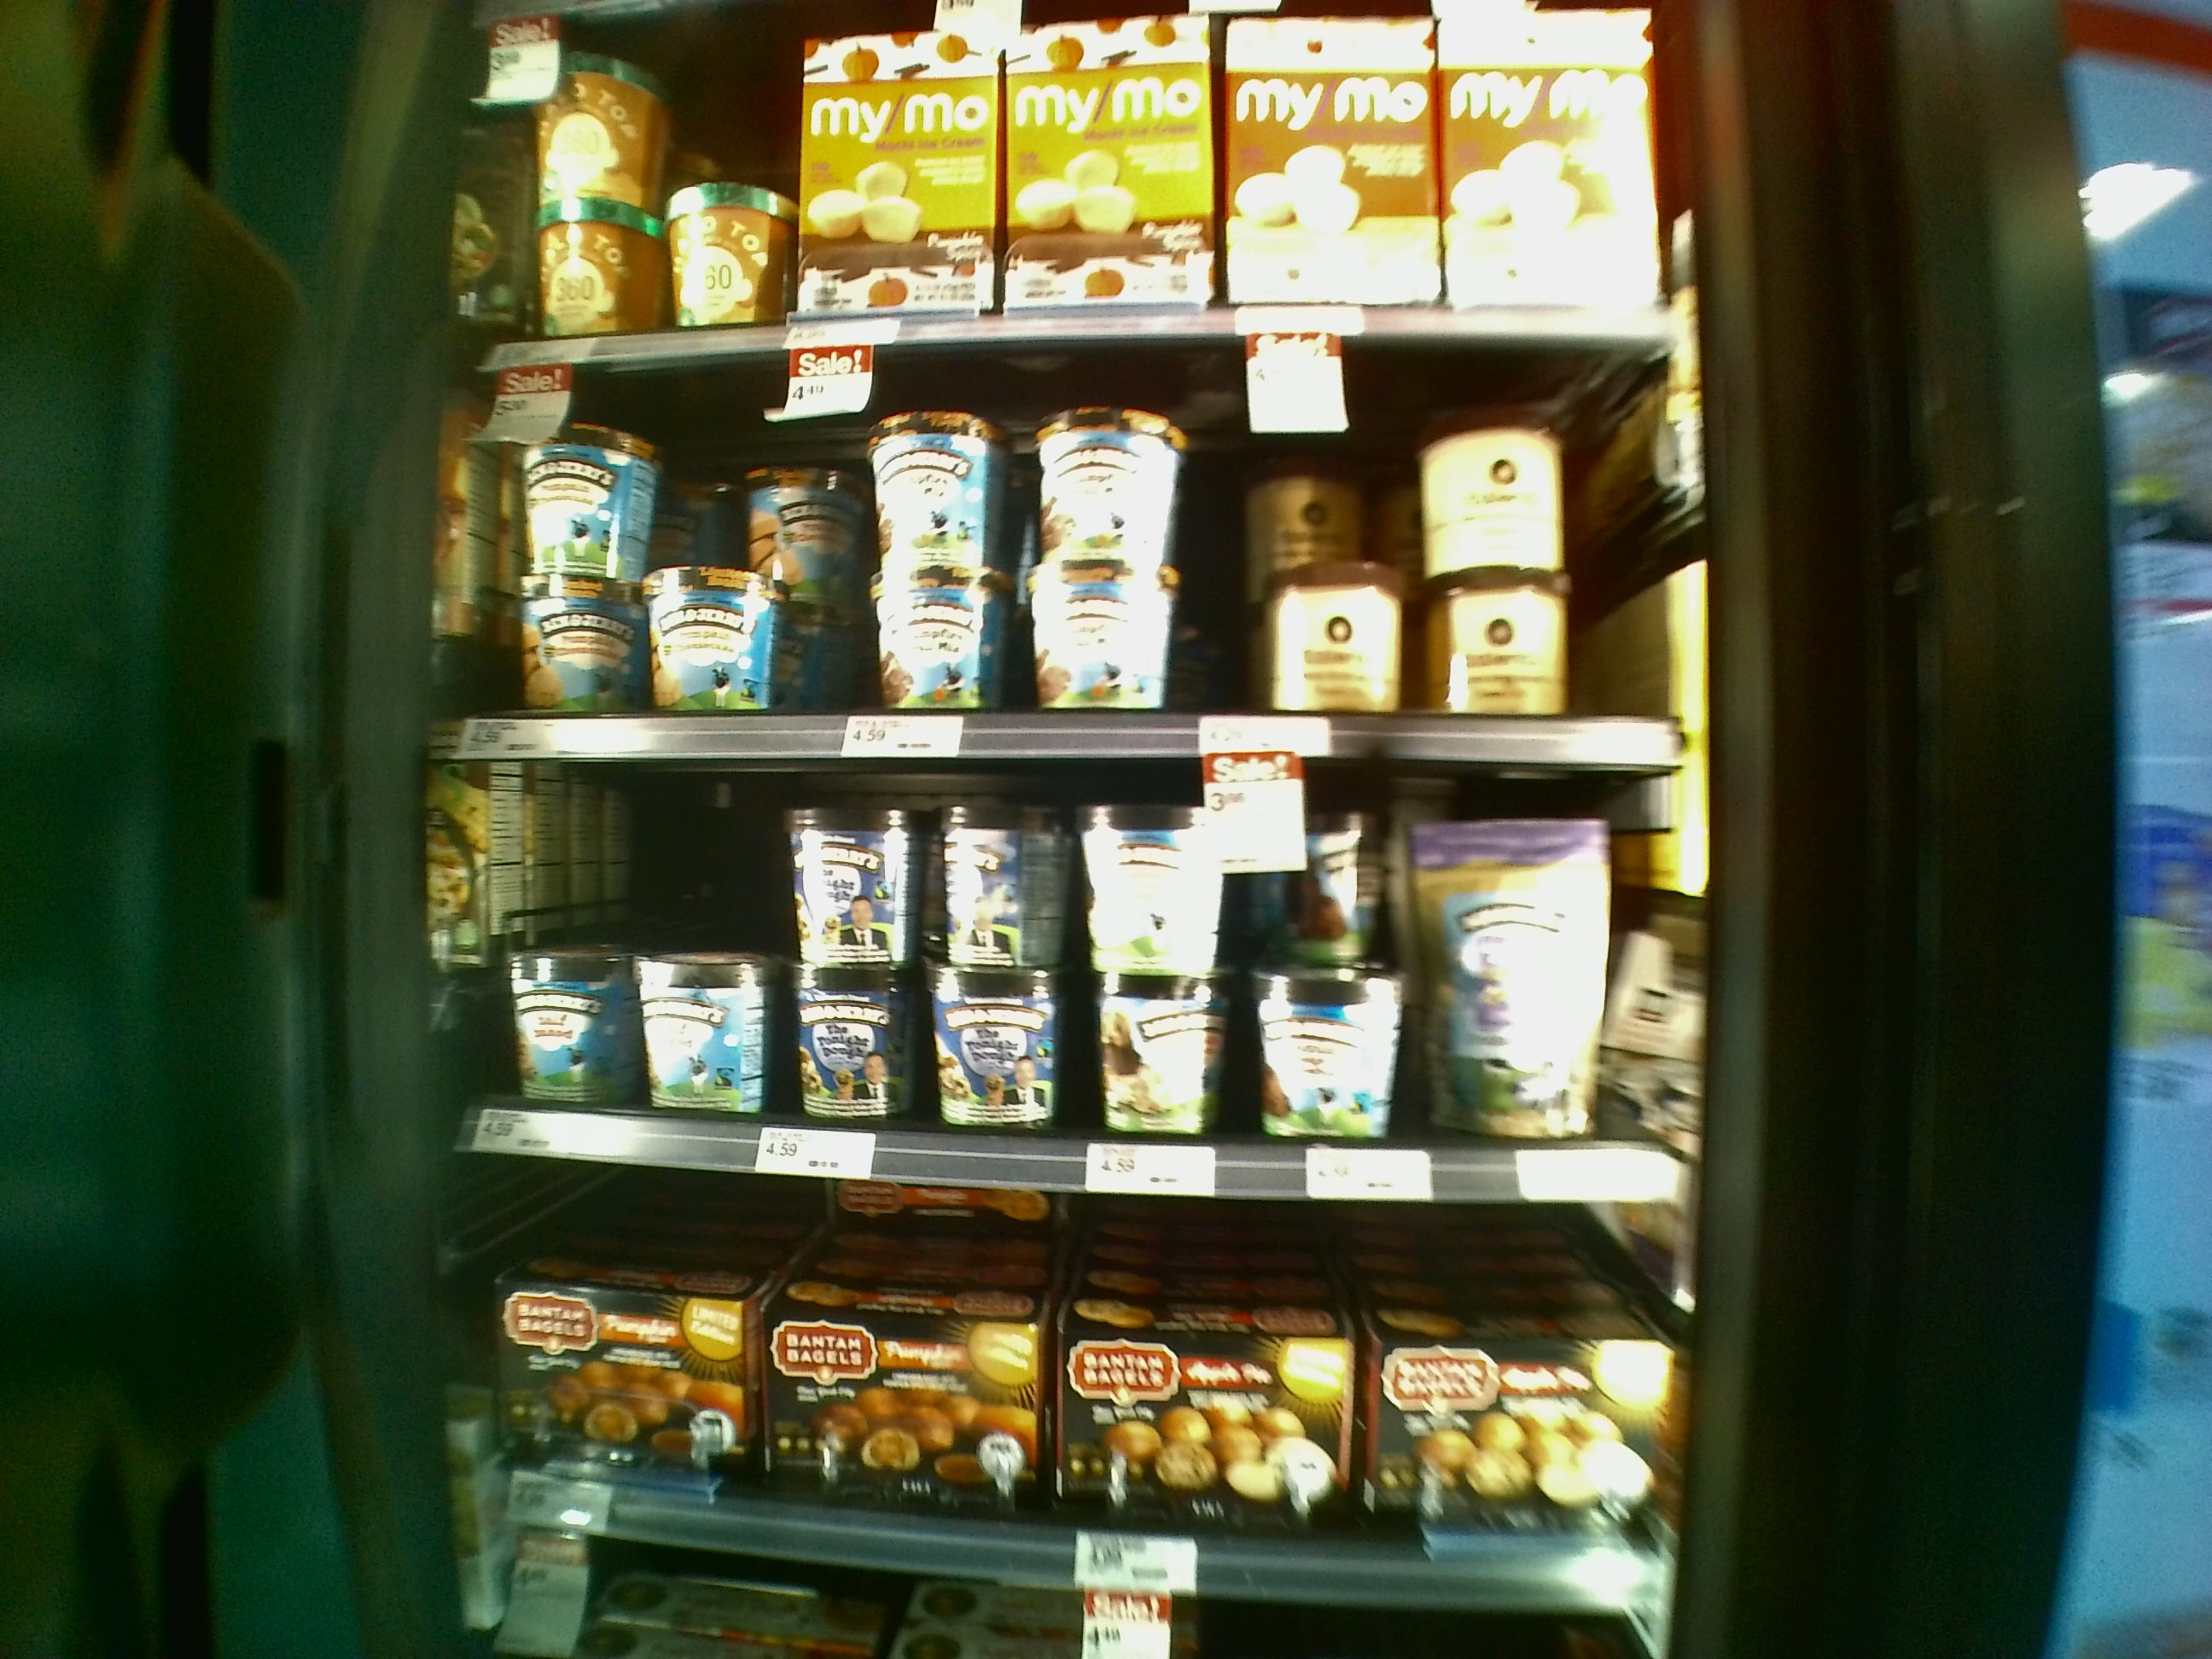shelf: (423, 721, 1700, 1213), (430, 1140, 1658, 1617), (467, 329, 1684, 763)
